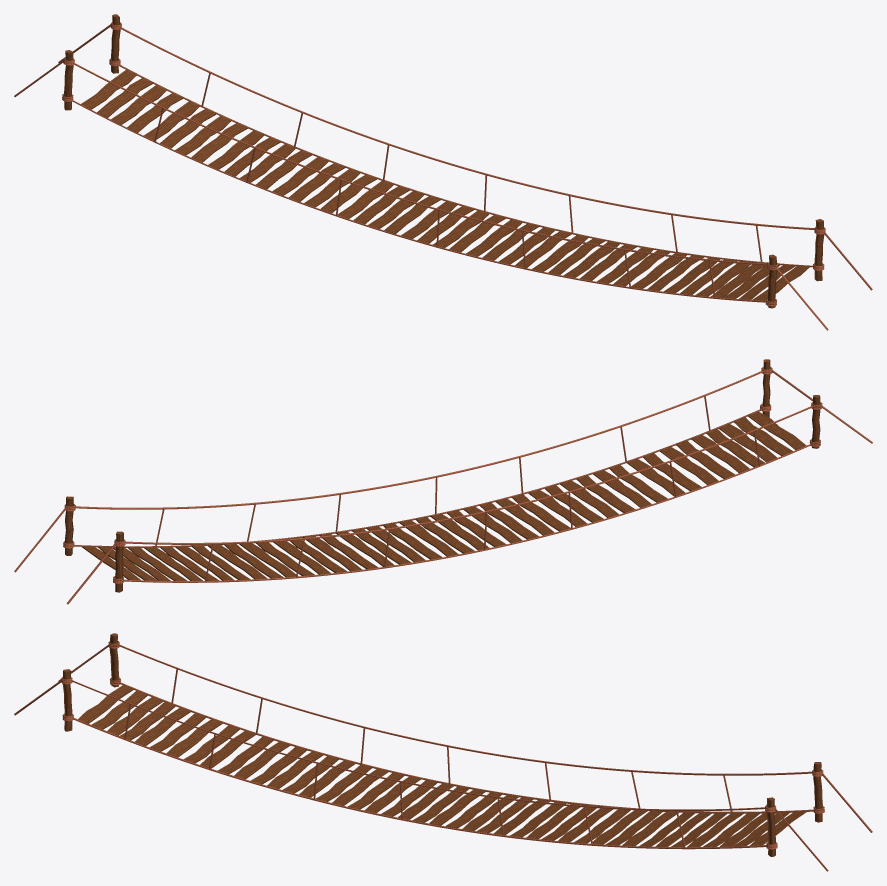
The model's file is LongBridge.fbx.
3 views of the same model, one above another, from view 1: azimuth 90°, elevation 25°; view 2: azimuth 150°, elevation 25°; view 3: azimuth 270°, elevation 25° (orthographic).
Visible parts, largest first — view 1: polySurface132; view 2: polySurface132; view 3: polySurface132.
Boxes of the visible parts, left/top/right/bottom form: polySurface132: left=14, top=14, right=872, bottom=330; polySurface132: left=14, top=359, right=872, bottom=604; polySurface132: left=14, top=633, right=872, bottom=871.
Size of the model in its own units: 18.17 by 4.09 by 28.78.
1 material, 1 textured.
